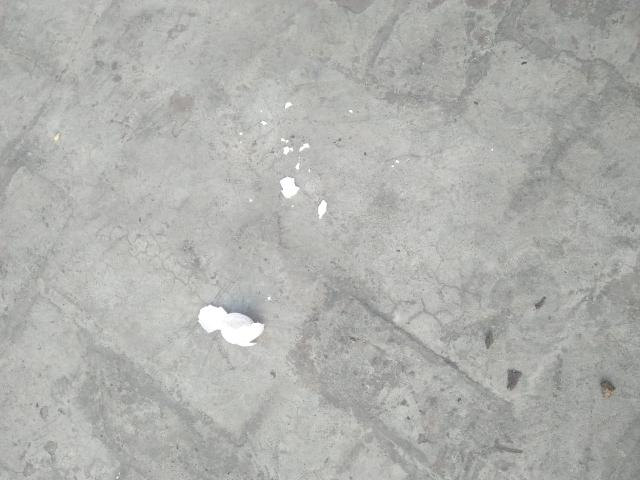Roto: (196, 303, 265, 347), (279, 175, 300, 199), (317, 199, 327, 219)
